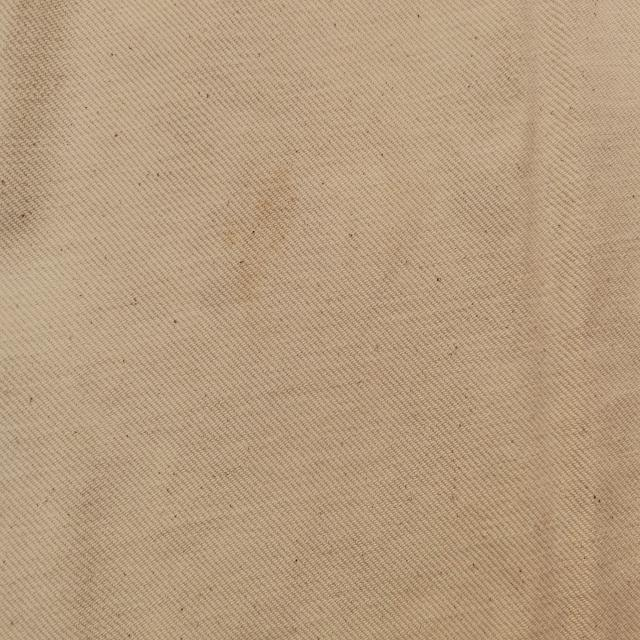taaaches: (240, 135, 302, 294)
